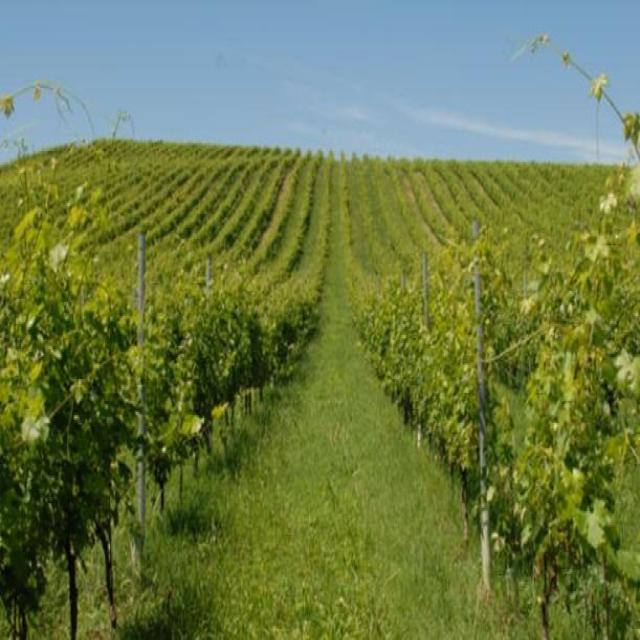row: (103, 166, 539, 637)
